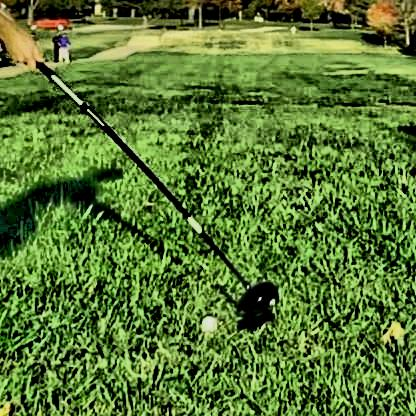golfball: (197, 312, 216, 329)
